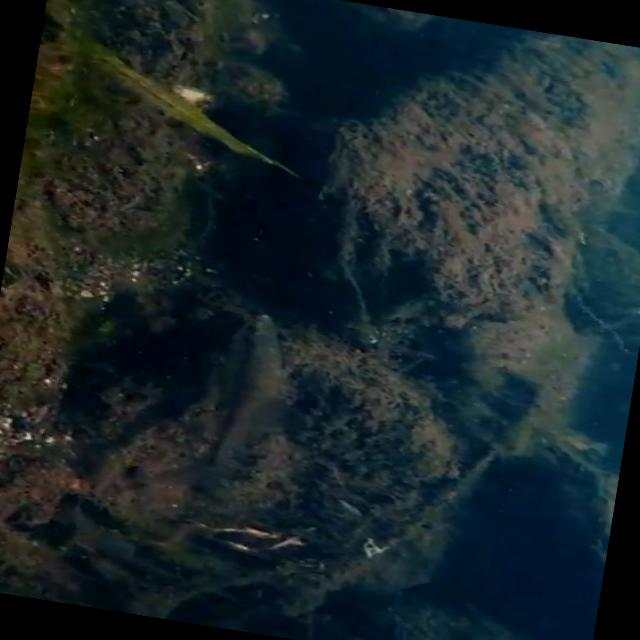Cakil Baligi: (152, 295, 298, 503)
